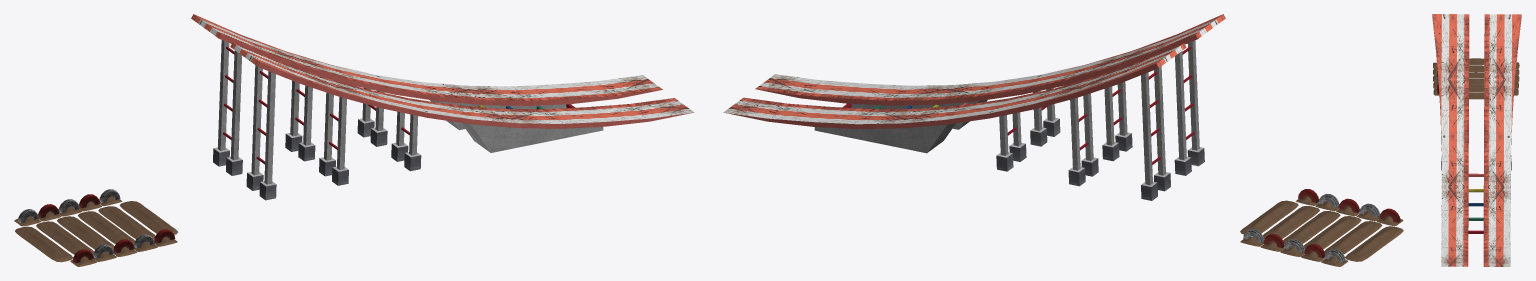
File: tires with jumps.fbx
3 renders of one model, left to right at view 1: azimuth 30°, elevation 25°; view 2: azimuth 150°, elevation 25°; view 3: azimuth 270°, elevation 25°, orthographic. The views are drawn at different scales.
Parts seen in each view (by area): view 1: Ramp01_edit_Atlas_1_0, model_2, model_0, model_1; view 2: Ramp01_edit_Atlas_1_0, model_2, model_0, model_1; view 3: Ramp01_edit_Atlas_1_0, model_2.
Part boxes in pixels (box(x1,y1,x2,y2)): Ramp01_edit_Atlas_1_0: box(191, 14, 694, 200); model_2: box(14, 196, 177, 266); model_0: box(38, 194, 175, 263); model_1: box(18, 189, 154, 258); Ramp01_edit_Atlas_1_0: box(723, 14, 1225, 200); model_2: box(1240, 196, 1403, 266); model_0: box(1263, 189, 1400, 257); model_1: box(1243, 193, 1379, 262); Ramp01_edit_Atlas_1_0: box(1432, 14, 1521, 266); model_2: box(1433, 58, 1519, 99).
Bounding box in the file's own units: 1025 × 252 × 187.
1 material, 1 textured.
